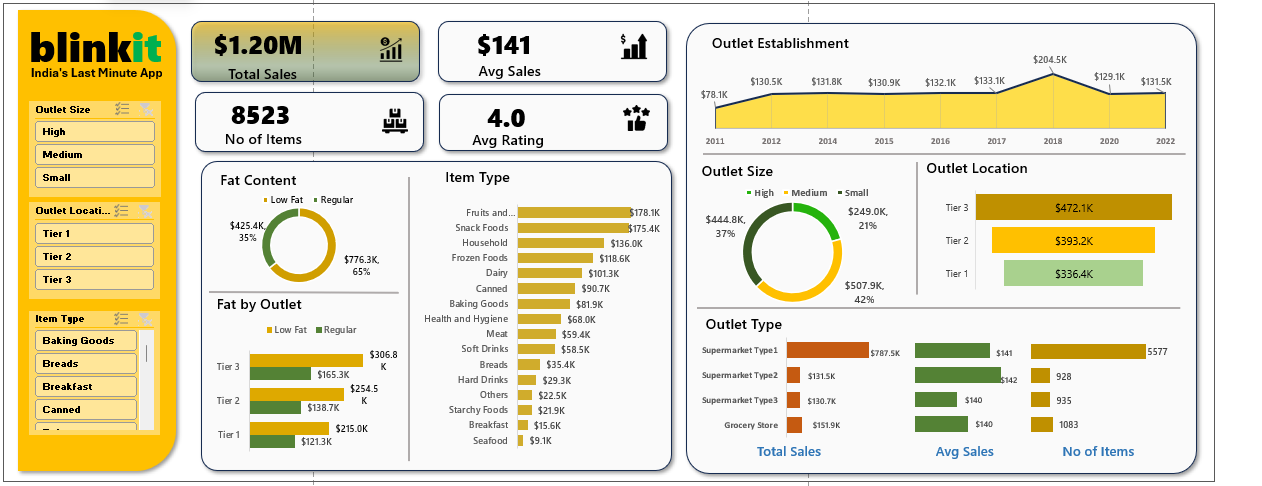

The dashboard page shown, as its layout file describes it:
{"tool":"powerbi","page":{"name":"Page 1","canvas":[1400,800],"ordinal":0},"visuals":[{"type":"shape","box":[0,36,204.1,750.4],"z":0},{"type":"textbox","box":[18,48,166.6,87.1],"z":1000},{"type":"textbox","box":[13.5,102.1,190.6,33],"z":2000},{"type":"cardVisual","fields":{"Data":["BlinkIT Grocery Data.Total sales","BlinkIT Grocery Data.Avg sales","BlinkIT Grocery Data.No of items","BlinkIT Grocery Data.Avg Rating"]},"box":[204.1,36,570.3,270.2],"z":3000},{"type":"shape","box":[204.1,300.2,553.8,486.3],"z":4000},{"type":"donutChart","title":"Fat Content","fields":{"Y":["BlinkIT Grocery Data.Total sales"],"Category":["BlinkIT Grocery Data.Item Fat Content"]},"box":[215.8,348.5,221.2,207.8],"z":5000},{"type":"slicer","fields":{"Values":["Metrics.Metrics"]},"box":[249.1,316.7,465.3,40.5],"z":6000},{"type":"cardVisual","fields":{"Data":["BlinkIT Grocery Data.Total sales"]},"box":[270.2,460.8,114.1,66],"z":7000},{"type":"clusteredBarChart","title":"FAT BY OUTLET","fields":{"Y":["BlinkIT Grocery Data.Total sales"],"Category":["BlinkIT Grocery Data.Outlet Location Type"],"Series":["BlinkIT Grocery Data.Item Fat Content"]},"box":[216.1,570.3,220.6,229.6],"z":8000},{"type":"shape","box":[216.1,543.3,220.6,42],"z":9000},{"type":"shape","box":[436.8,369.2,12,409.7],"z":10000},{"type":"barChart","title":"ITEM TYPE","fields":{"Y":["BlinkIT Grocery Data.Total sales"],"Category":["BlinkIT Grocery Data.Item Type"]},"box":[442.8,357.2,300.2,421.7],"z":11000},{"type":"shape","box":[772.1,63,612.6,715.8],"z":12000},{"type":"lineChart","fields":{"Category":["BlinkIT Grocery Data.Outlet Establishment Year"],"Y":["Sum(BlinkIT Grocery Data.Sales)"]},"box":[793.6,81.8,571,234.6],"z":13000},{"type":"shape","box":[788.2,319,591.2,9.4],"z":14000},{"type":"donutChart","title":"Outlet Size","fields":{"Y":["BlinkIT Grocery Data.Total sales"],"Category":["BlinkIT Grocery Data.Outlet Size"]},"box":[788.2,336.5,274.8,225.2],"z":15000},{"type":"shape","box":[1056.3,328.4,12.1,205.1],"z":16000},{"type":"funnel","title":"Outlet Location","fields":{"Category":["BlinkIT Grocery Data.Outlet Location Type"],"Y":["Sum(BlinkIT Grocery Data.Sales)"]},"box":[1063,336.5,298.9,215.8],"z":17000},{"type":"shape","box":[803,556.3,571,14.7],"z":18000},{"type":"pivotTable","title":"Outlet Type","fields":{"Rows":["BlinkIT Grocery Data.Outlet Type"],"Values":["BlinkIT Grocery Data.Total sales","BlinkIT Grocery Data.No of items","BlinkIT Grocery Data.Avg sales","BlinkIT Grocery Data.Avg Rating","Sum(BlinkIT Grocery Data.Item Visibility)"]},"box":[804.3,564.3,569.7,198.4],"z":19000},{"type":"slicer","fields":{"Values":["BlinkIT Grocery Data.Outlet Location Type"]},"box":[13.4,245.3,170.2,71],"z":20000},{"type":"slicer","fields":{"Values":["BlinkIT Grocery Data.Outlet Size"]},"box":[16.1,333.8,170.2,71],"z":21000},{"type":"slicer","fields":{"Values":["BlinkIT Grocery Data.Item Type"]},"box":[17.4,422.3,170.2,71],"z":22000}]}

Visuals, with their boxes on the page's 1400x800 design canvas (x1, y1, x2, y2). These are canvas units, not pixel positions in the 1262x486 screenshot, which may show the page scaled, cropped or inside an application window:
shape: bbox(0, 36, 204, 786)
textbox: bbox(18, 48, 185, 135)
textbox: bbox(14, 102, 204, 135)
cardVisual - BlinkIT Grocery Data.Total sales x BlinkIT Grocery Data.Avg sales: bbox(204, 36, 774, 306)
shape: bbox(204, 300, 758, 786)
"Fat Content" donutChart: bbox(216, 348, 437, 556)
slicer - Metrics.Metrics: bbox(249, 317, 714, 357)
cardVisual - BlinkIT Grocery Data.Total sales: bbox(270, 461, 384, 527)
"FAT BY OUTLET" clusteredBarChart: bbox(216, 570, 437, 800)
shape: bbox(216, 543, 437, 585)
shape: bbox(437, 369, 449, 779)
"ITEM TYPE" barChart: bbox(443, 357, 743, 779)
shape: bbox(772, 63, 1385, 779)
lineChart - BlinkIT Grocery Data.Outlet Establishment Year x Sum(BlinkIT Grocery Data.Sales): bbox(794, 82, 1365, 316)
shape: bbox(788, 319, 1379, 328)
"Outlet Size" donutChart: bbox(788, 336, 1063, 562)
shape: bbox(1056, 328, 1068, 534)
"Outlet Location" funnel: bbox(1063, 336, 1362, 552)
shape: bbox(803, 556, 1374, 571)
"Outlet Type" pivotTable: bbox(804, 564, 1374, 763)
slicer - BlinkIT Grocery Data.Outlet Location Type: bbox(13, 245, 184, 316)
slicer - BlinkIT Grocery Data.Outlet Size: bbox(16, 334, 186, 405)
slicer - BlinkIT Grocery Data.Item Type: bbox(17, 422, 188, 493)
